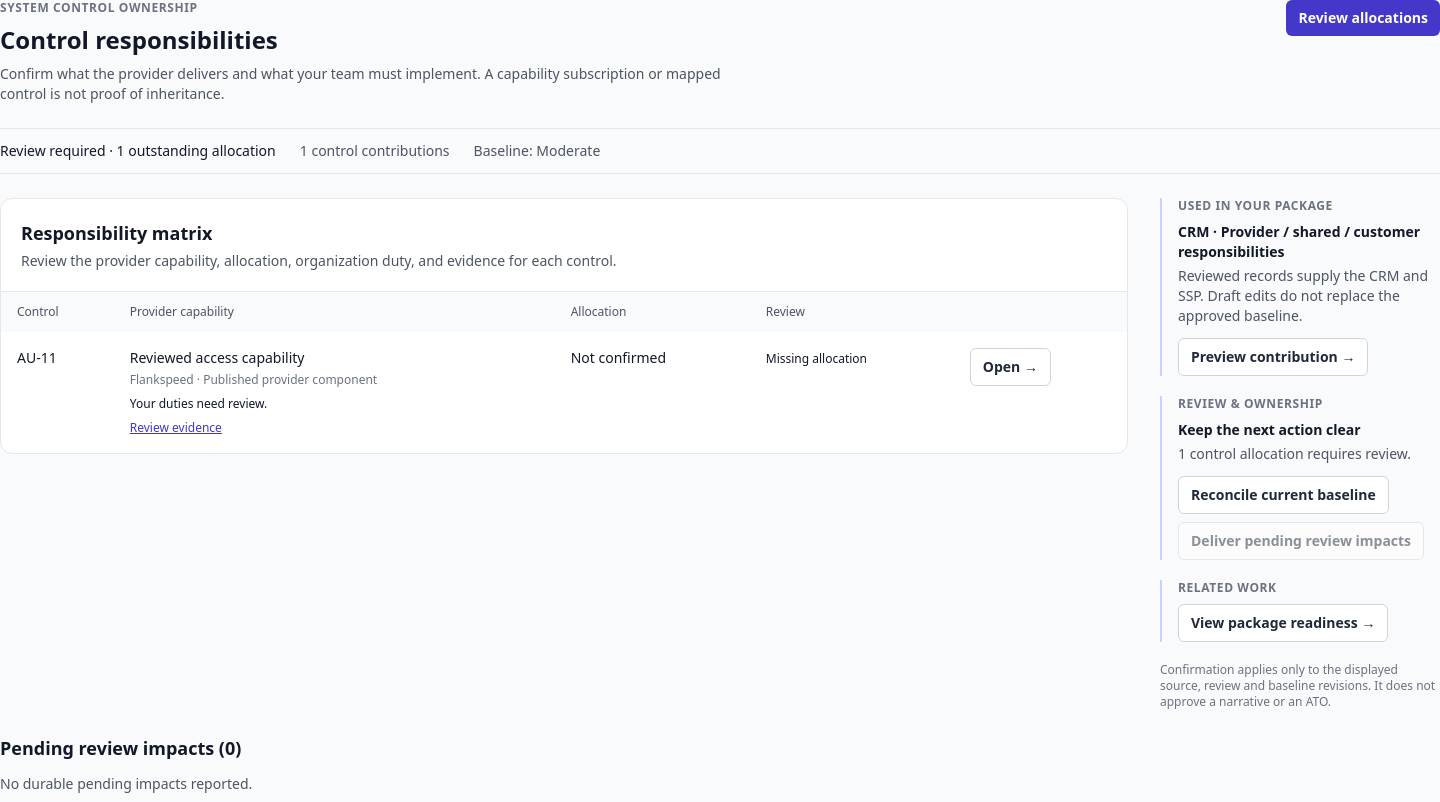
Scenario: starts unconfirmed with a concise provider summary and separate saved state
This screenshot has width=1440, height=802.
Click the button with aria-label "Open AU-11 responsibility".
click(1010, 367)  # box x1=970 y1=348 x2=1051 y2=386
(page scrolled)
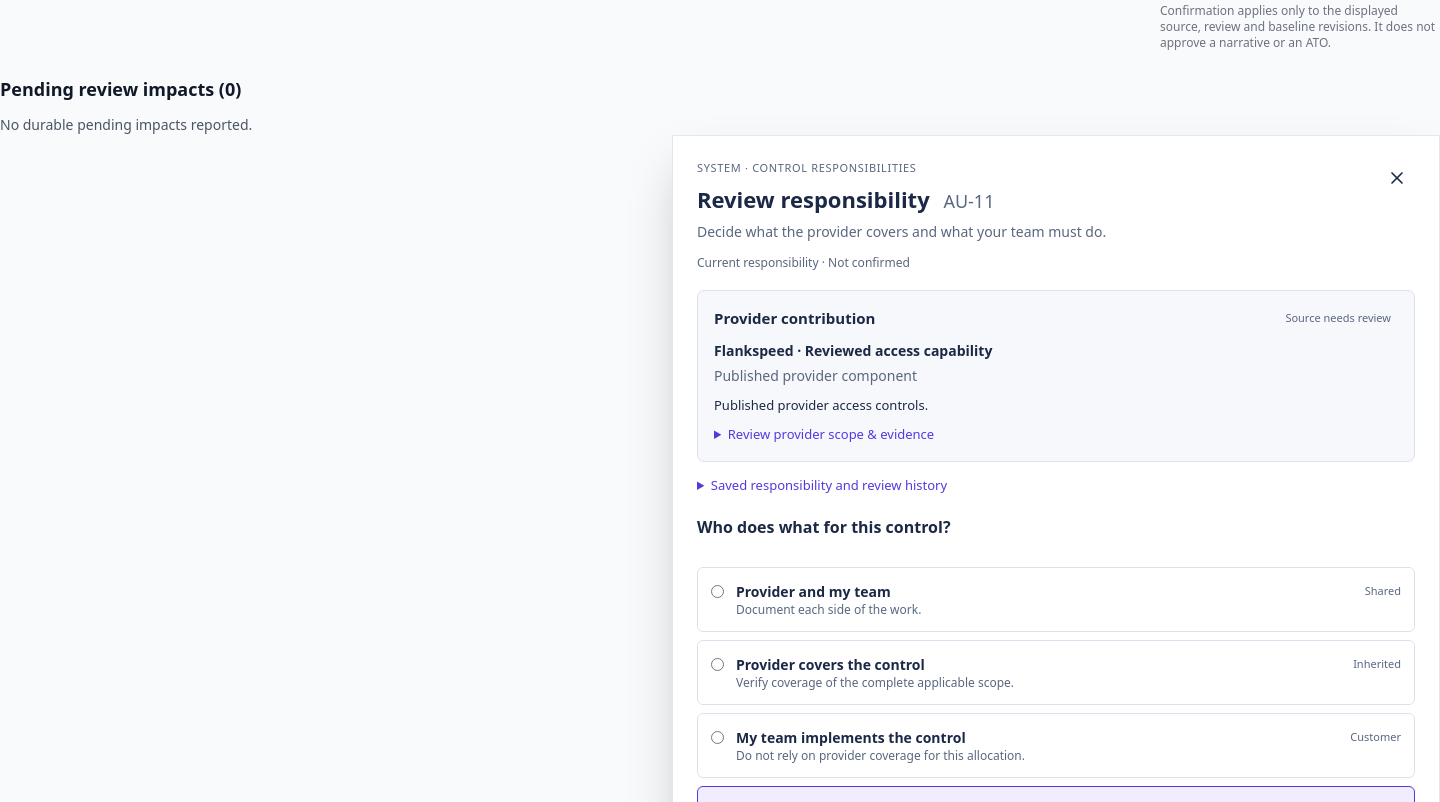
Check: the text "Decide what the provider covers and what your team must do." is shown, box x1=697 y1=221 x2=1106 y2=242
Check: the text "Current responsibility · Not confirmed" is shown, box x1=697 y1=254 x2=910 y2=271
Check: the heading "Review provider scope & evidence" is shown, box x1=728 y1=425 x2=934 y2=443
